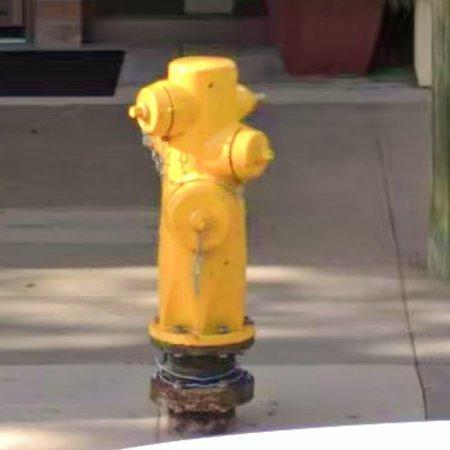a fire hydrant: (129, 55, 274, 388)
